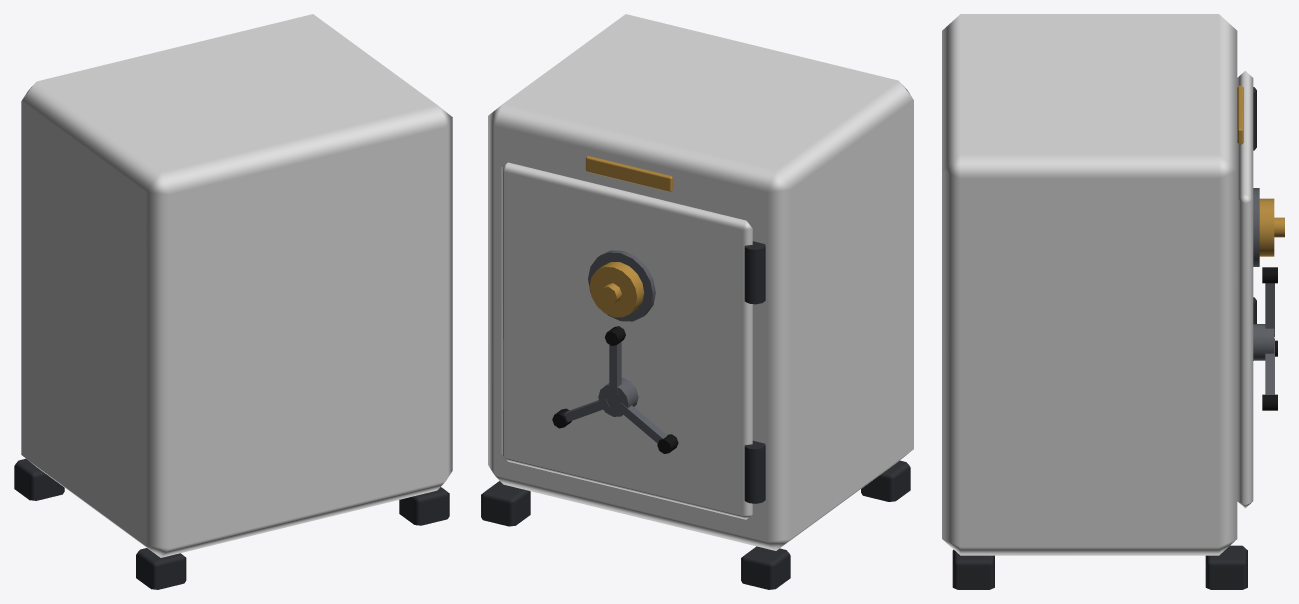
The model's file is safe.glb.
The picture shows the model from 3 angles, left to right: view 1: azimuth 30°, elevation 25°; view 2: azimuth 150°, elevation 25°; view 3: azimuth 270°, elevation 25°; orthographic projection. The views are drawn at different scales.
Visible parts, largest first — view 1: Safe; view 2: Safe; view 3: Safe.
Part boxes in pixels (<box>): Safe: <box>14,14,452,589</box>; Safe: <box>481,14,913,589</box>; Safe: <box>942,14,1284,589</box>.
Size of what is drawn, in the model's own units: 0.7 by 0.9 by 0.65.
